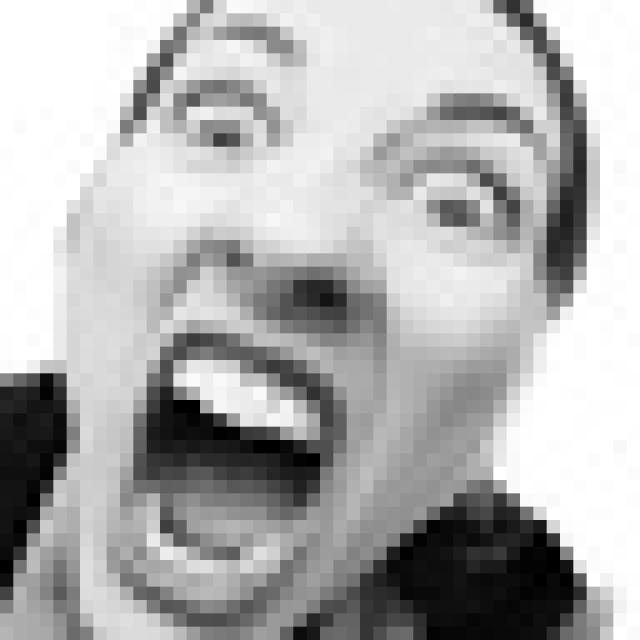angry: (110, 18, 559, 620)
